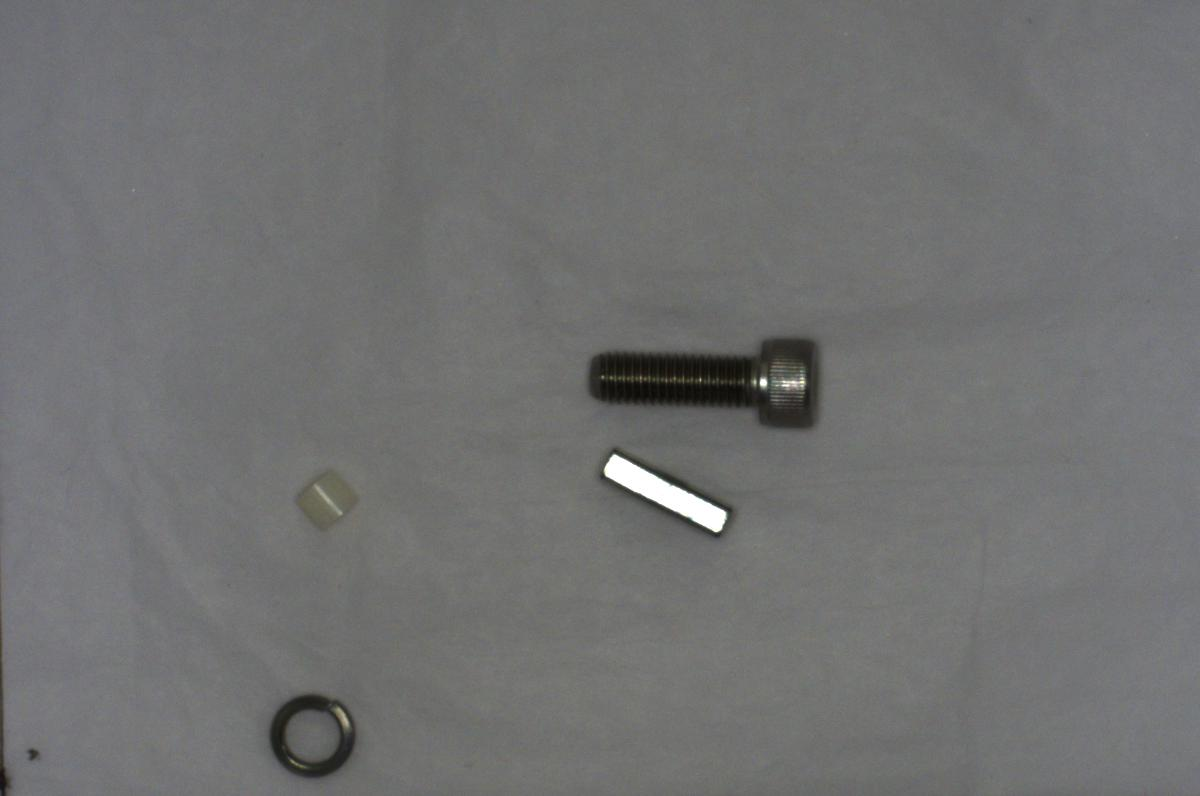Hexagon screw: (581, 325, 831, 442)
Plastic cushion pillar: (298, 466, 365, 530)
Rectangular nut: (591, 447, 734, 542)
Spring washer: (261, 685, 361, 782)
